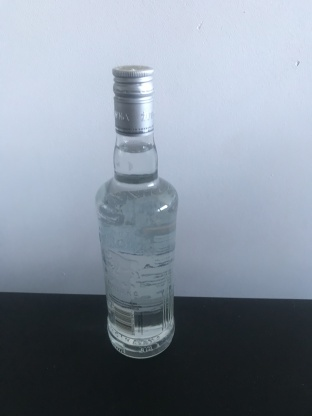nakretka: (110, 62, 155, 138)
